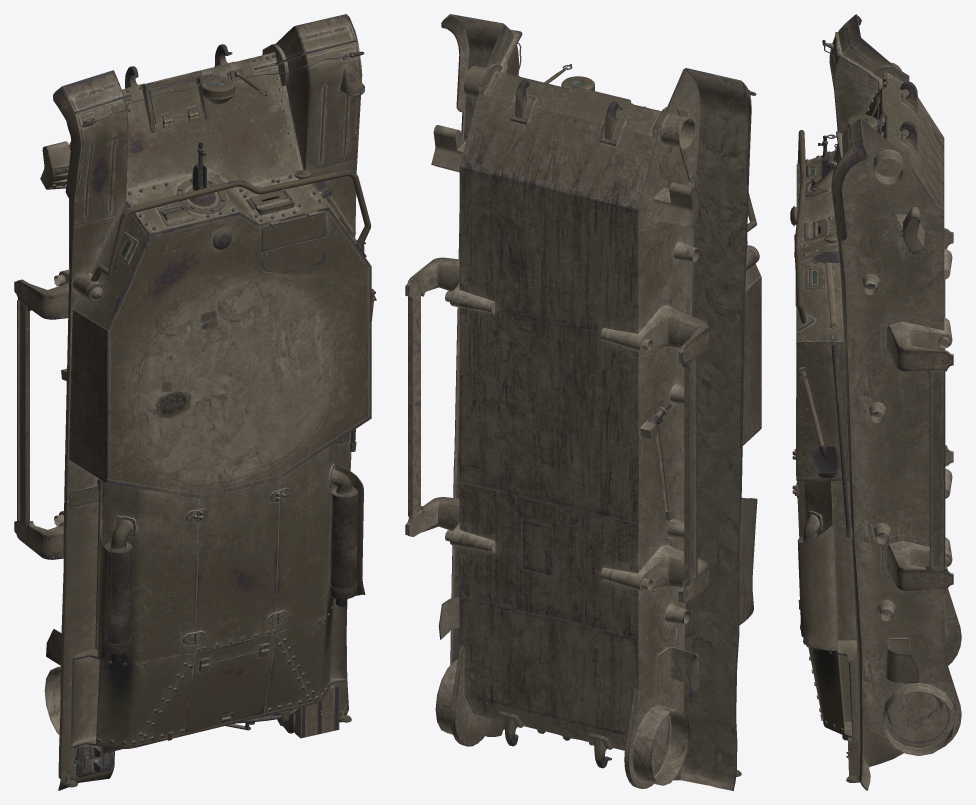
The model's file is Hull.glb.
3 views of the same model, side by side, from view 1: azimuth 30°, elevation 25°; view 2: azimuth 150°, elevation 25°; view 3: azimuth 270°, elevation 25° (orthographic). The views are drawn at different scales.
Visible parts, largest first — view 1: set_0_group_0; view 2: set_0_group_0; view 3: set_0_group_0.
Boxes of the visible parts, x1=… form: set_0_group_0: x1=14, y1=14, x2=376, y2=790; set_0_group_0: x1=405, y1=14, x2=761, y2=790; set_0_group_0: x1=790, y1=14, x2=961, y2=790.
Size of the model in its own units: 2.34 by 5.26 by 1.26.
Materials: 1 (1 with a texture image).
